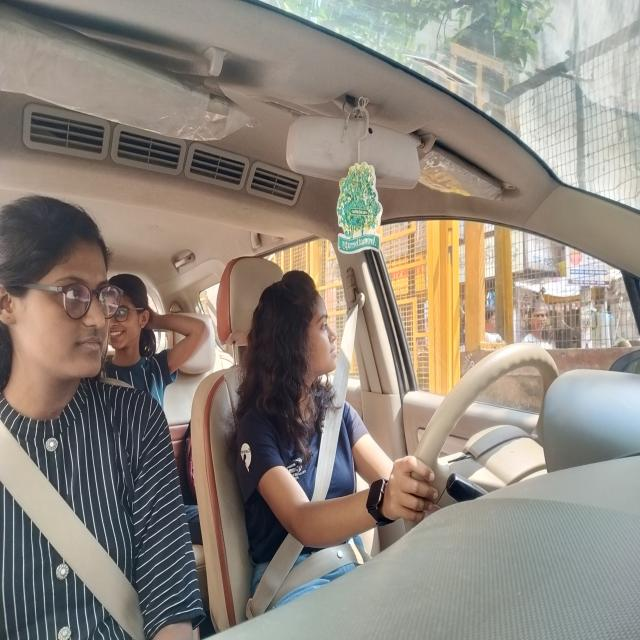LeftRight: (249, 260, 345, 413)
person: (0, 181, 126, 428), (105, 253, 164, 392)
